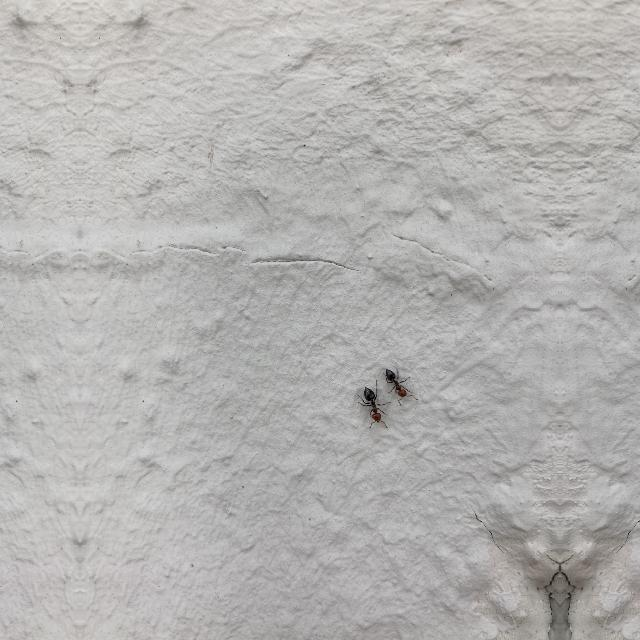Crematogaster: (382, 366, 414, 404), (359, 382, 386, 423)
